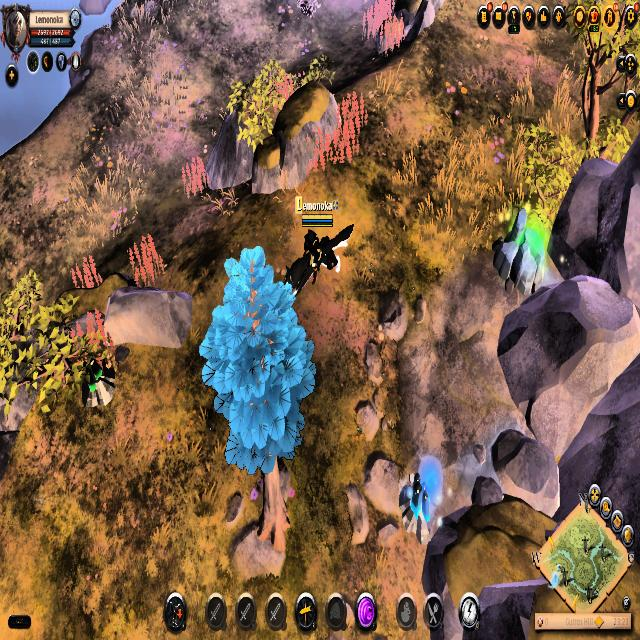ore tier 3: (79, 356, 117, 412)
ore tier 4: (400, 474, 438, 544)
rock tier 4: (488, 202, 548, 302)
wood tier 4: (199, 247, 316, 474)
